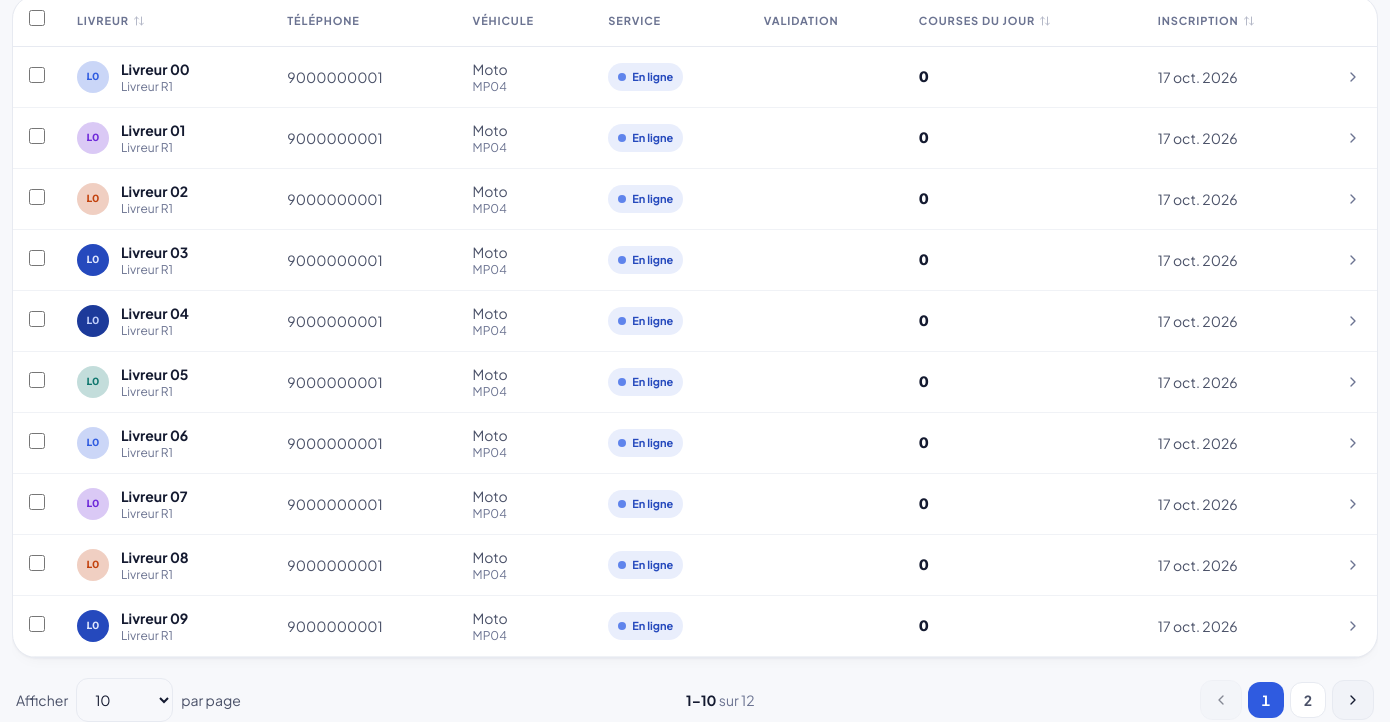
Test case: DriverManager table view › is the default view: one selectable row per rider, sortable, with pagination
(page scrolled)
Step 1. Click the button "2" → [1308, 700], box [1290,682,1326,718]
(page scrolled)
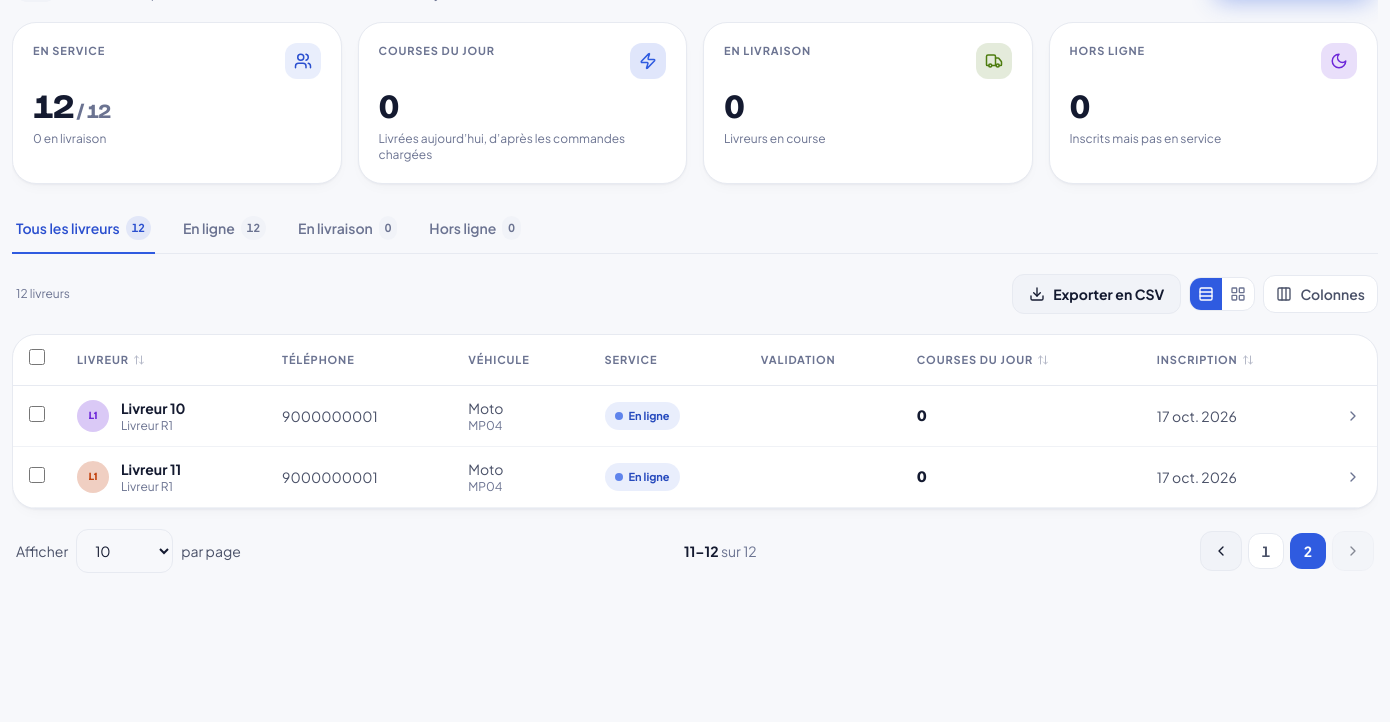
Step 2. Click the checkbox named "Sélectionner Livreur 10" → [37, 414], box [29,406,45,422]
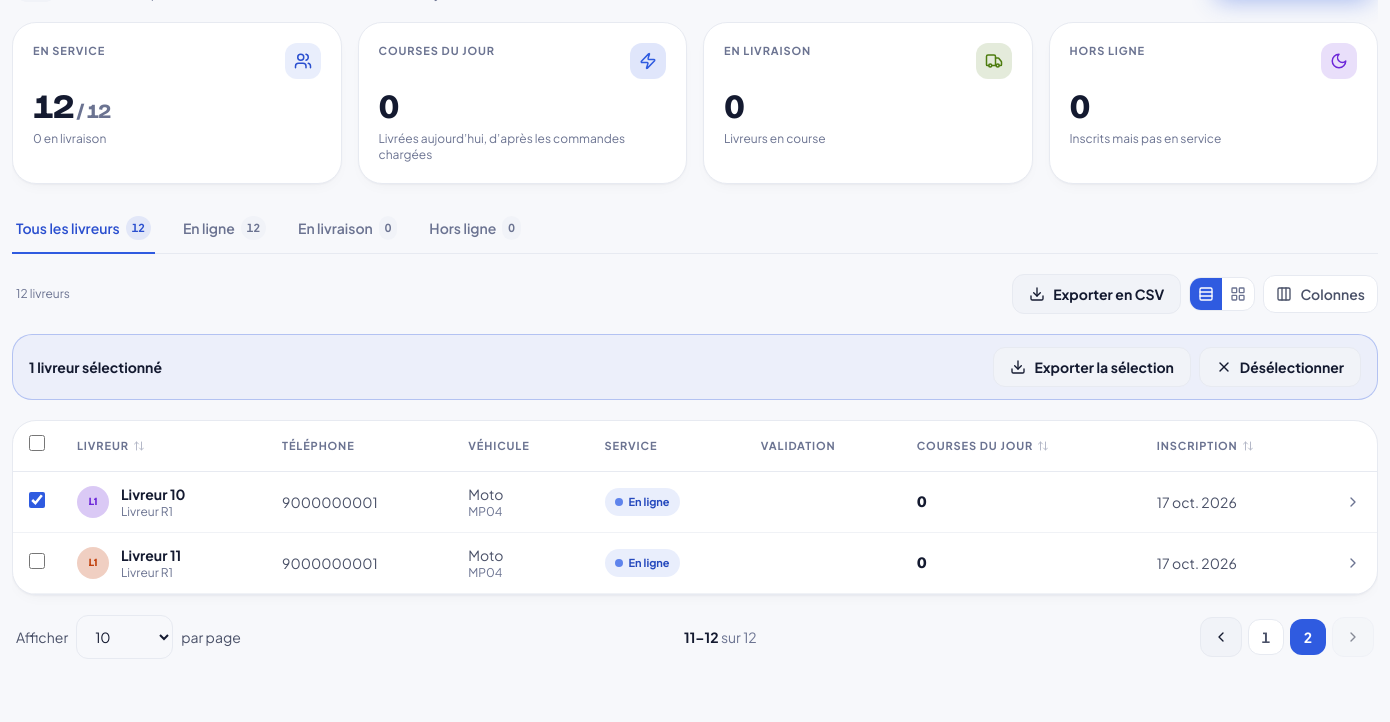
Expected: the text "1 livreur sélectionné" is shown, [29,357,162,377]
